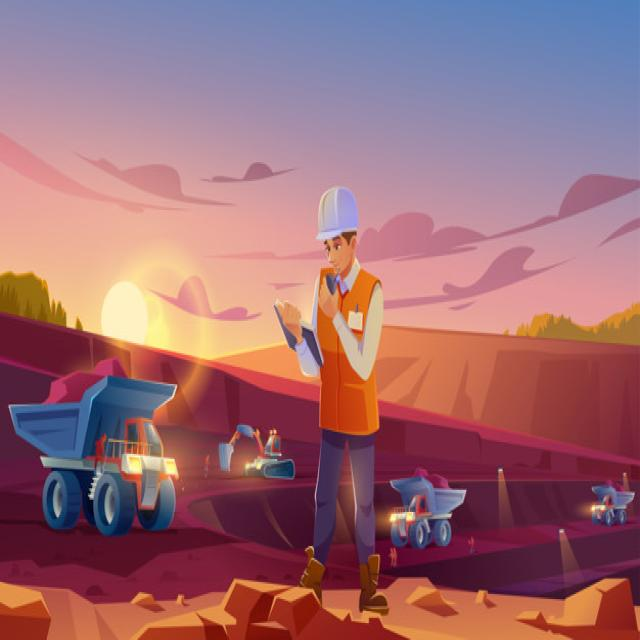dump_truck: (4, 350, 184, 540), (392, 458, 468, 552), (587, 462, 637, 534)
excavator: (210, 387, 295, 497)
